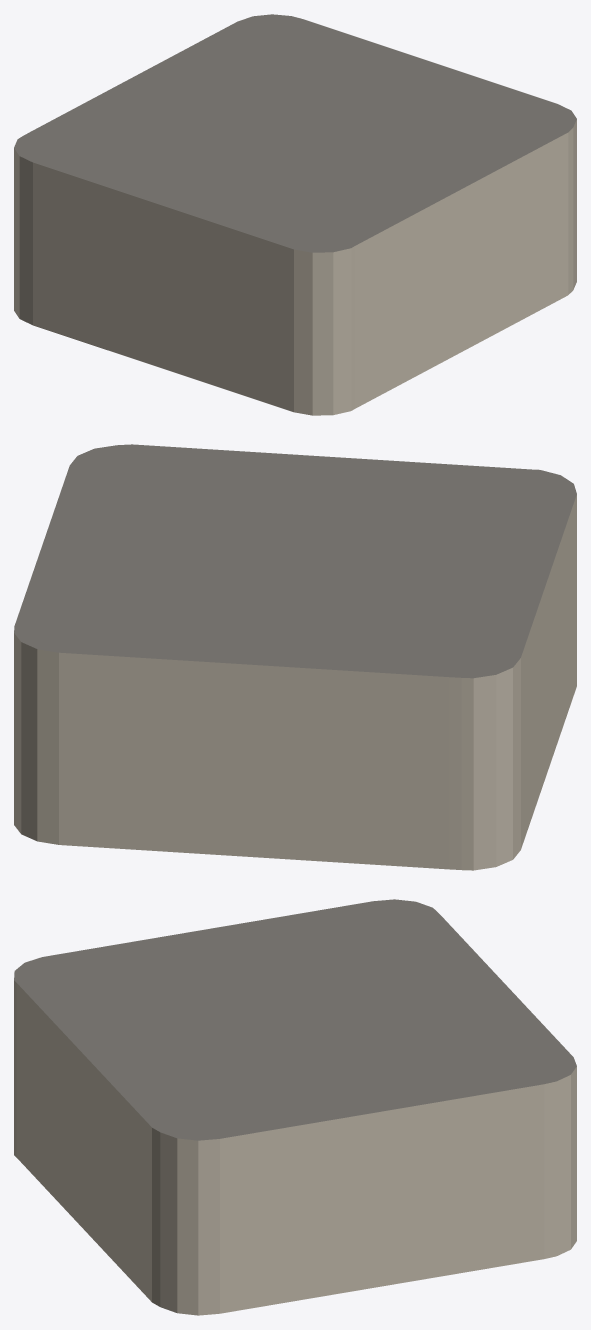
The picture shows the model from 3 angles, top to bottom: view 1: azimuth 30°, elevation 25°; view 2: azimuth 150°, elevation 25°; view 3: azimuth 270°, elevation 25°; orthographic projection. The views are drawn at different scales.
Visible parts, largest first — view 1: HP-w859488698; view 2: HP-w859488698; view 3: HP-w859488698.
Part boxes in pixels (x1,y1,x2,y2): HP-w859488698: (14,14,576,415); HP-w859488698: (14,444,576,870); HP-w859488698: (14,899,576,1315).
Bounding box in the file's own units: 53.25 × 18 × 52.51.
